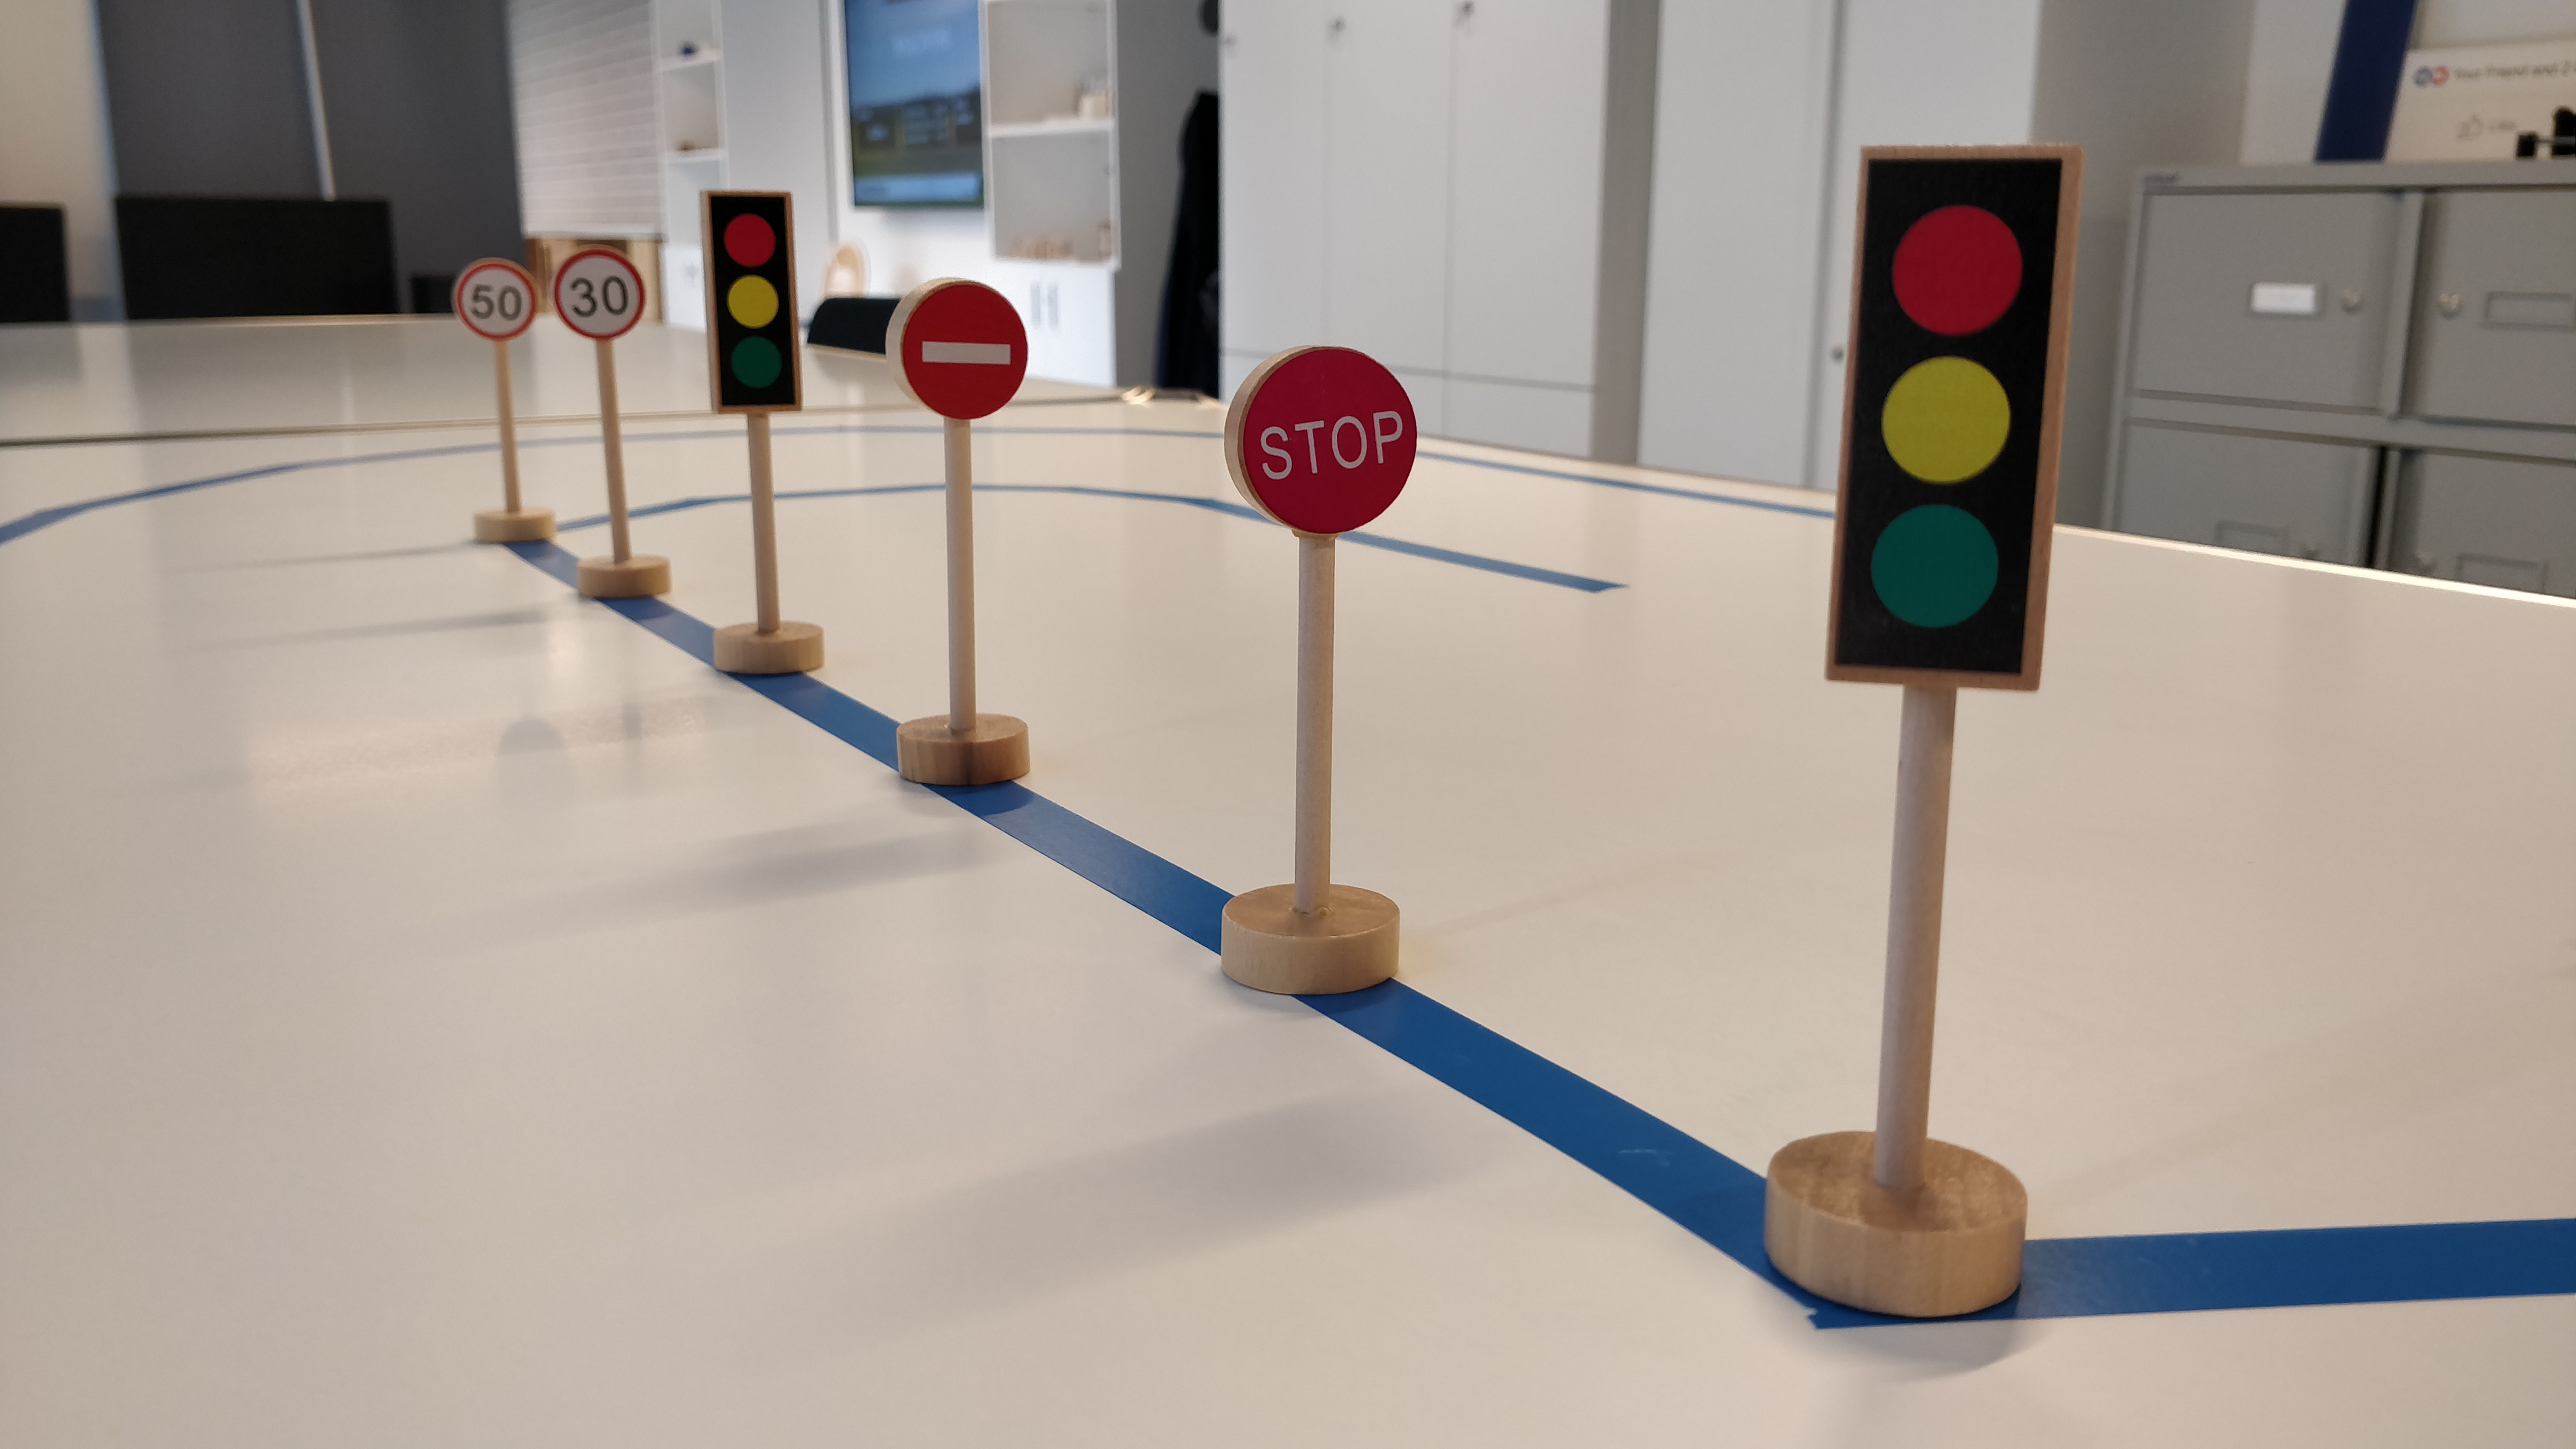Prohibition Sign: (884, 276, 1031, 421)
Speed Limit 30: (554, 240, 650, 346)
Speed Limit 50: (451, 257, 540, 346)
Stop Sign: (1218, 337, 1425, 547)
Traffic Light: (1821, 138, 2092, 697), (695, 184, 807, 416)
